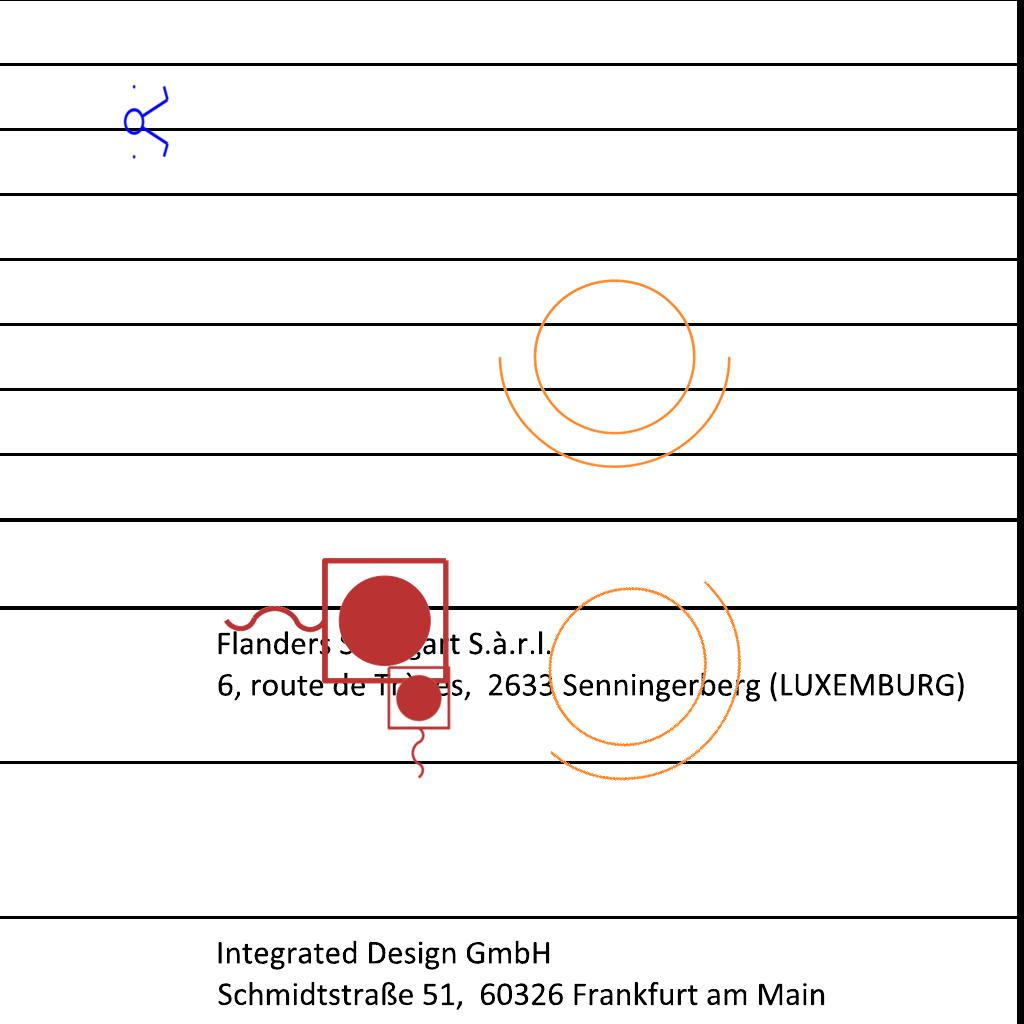Scheinwerfer_fuer_Alarmbeleuchtung: (467, 495, 811, 842), (489, 254, 753, 479)
Serienschalter: (123, 79, 171, 163)
Zugtaster: (213, 547, 457, 691), (382, 662, 454, 784)
